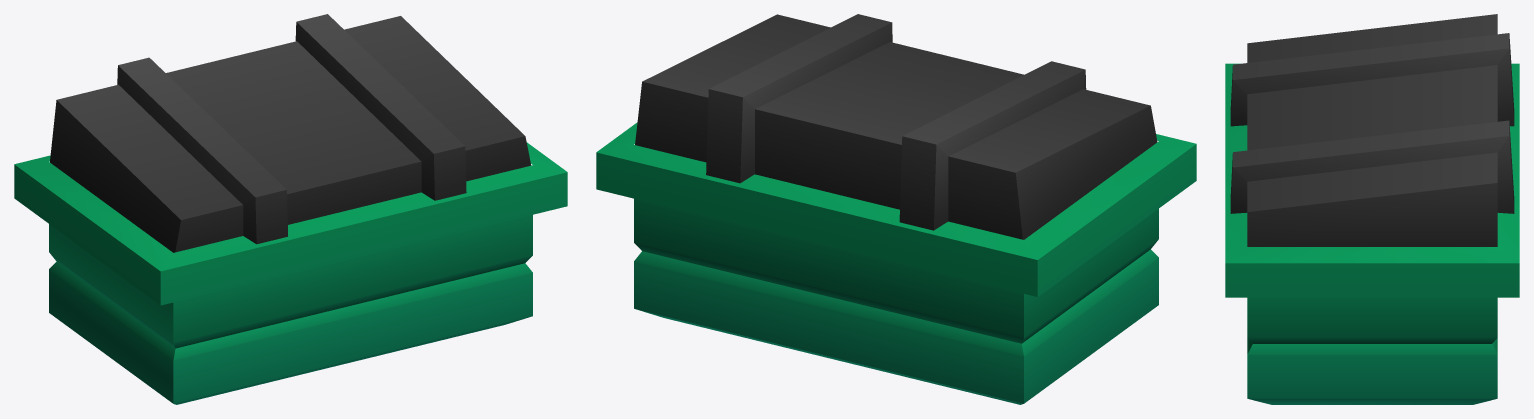
File: cc0-dumpster-lod1.glb
3 views of the same model, side by side, from view 1: azimuth 30°, elevation 25°; view 2: azimuth 150°, elevation 25°; view 3: azimuth 270°, elevation 25° (orthographic). The views are drawn at different scales.
Parts seen in each view (by area): view 1: part_0; view 2: part_0; view 3: part_0.
Boxes of the visible parts, x1,y1,x2,y2 form: part_0: (14,14,567,404); part_0: (596,14,1196,404); part_0: (1225,14,1519,404).
Bounding box in the file's own units: 0.5659 × 0.3173 × 0.3528.
Materials: 1 (1 with a texture image).
